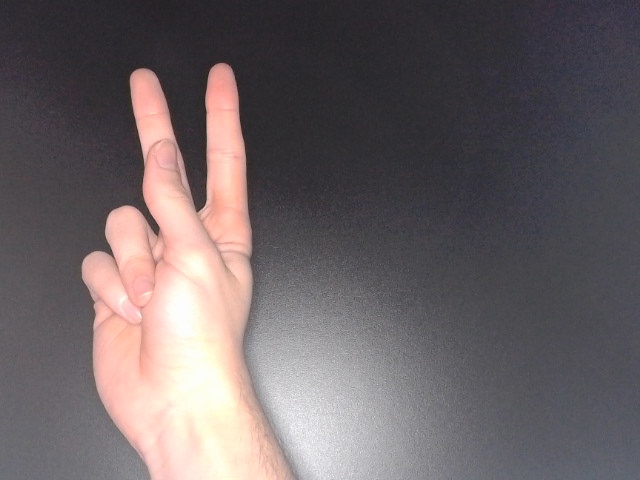k: (75, 59, 262, 463)
